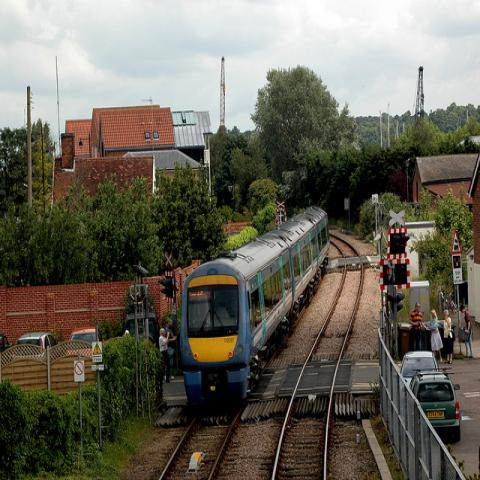car: (409, 368, 462, 442), (11, 330, 56, 360), (401, 351, 439, 385), (65, 326, 103, 359), (0, 334, 10, 353)
